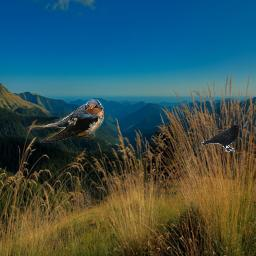Crow: (201, 124, 240, 152)
Swallow: (26, 99, 104, 143)
